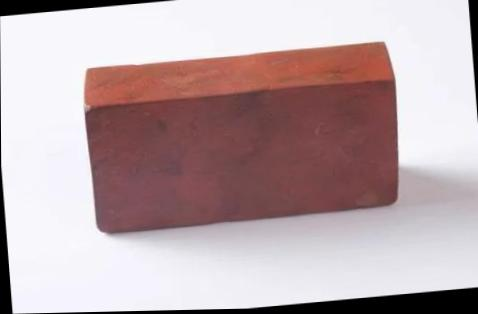brick: (84, 74, 406, 235)
